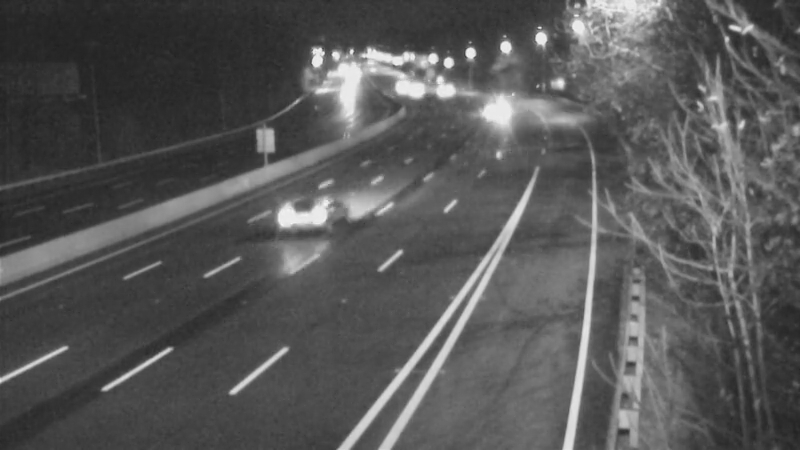vehicle: (268, 172, 348, 252), (374, 64, 424, 114), (410, 62, 460, 112), (390, 66, 440, 116), (470, 84, 520, 134)
